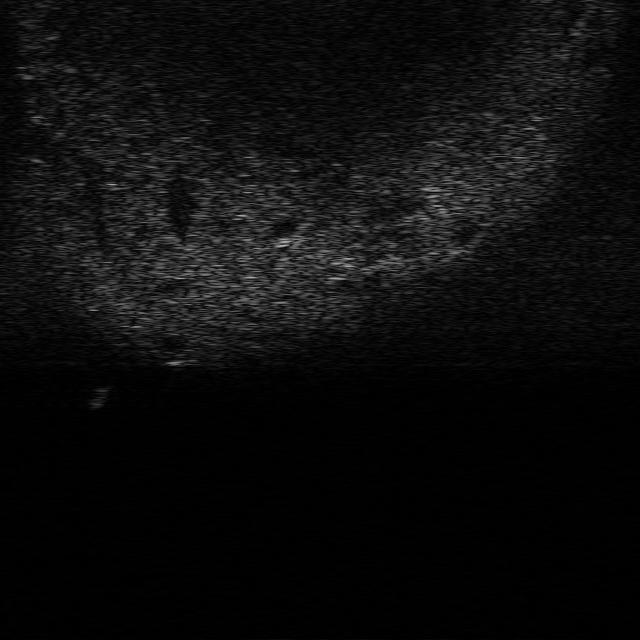cylinder: (87, 384, 115, 411)
